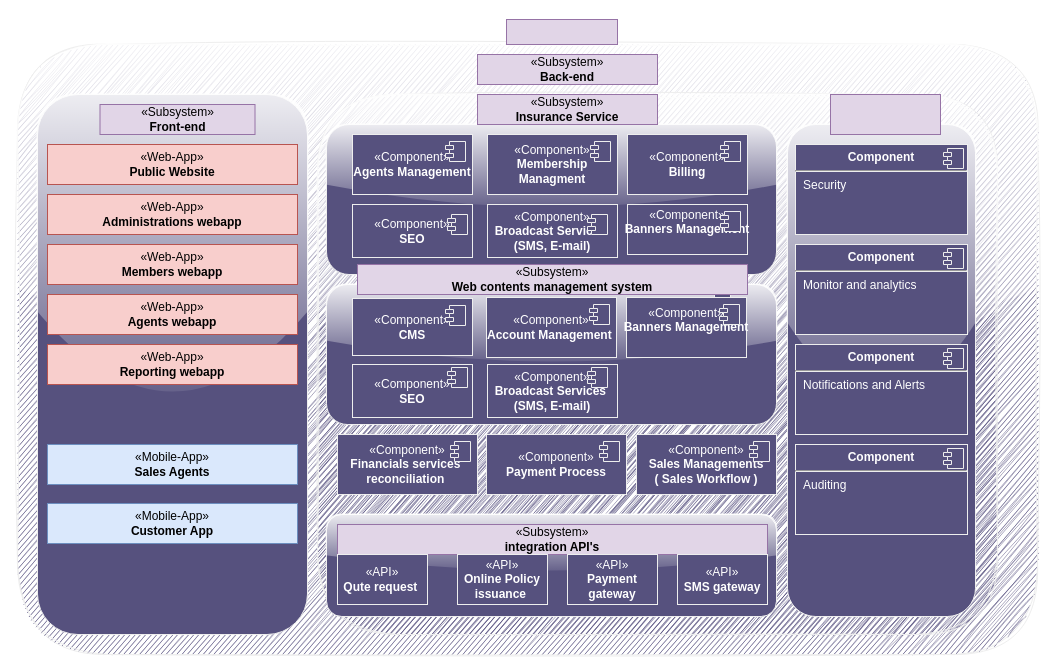
This 1055x672 diagram has some shape labels left out. Each missing label, with the centre of its shape:
"«Subsystem» Infrastructure Services" belongs at [885,114].
"«System» Loop platform" belongs at [562,31].
